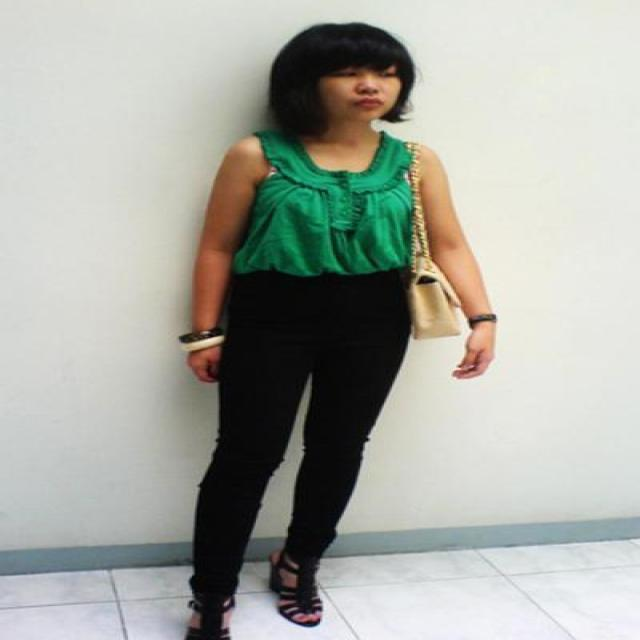bag: (410, 250, 459, 339)
pants: (189, 258, 435, 591)
shirt: (229, 121, 419, 276)
shoe: (186, 538, 323, 639)
